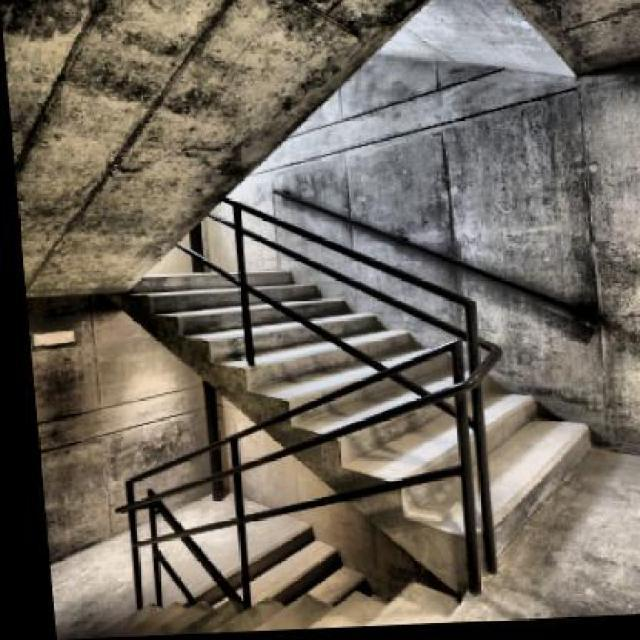stair: (120, 172, 612, 571)
